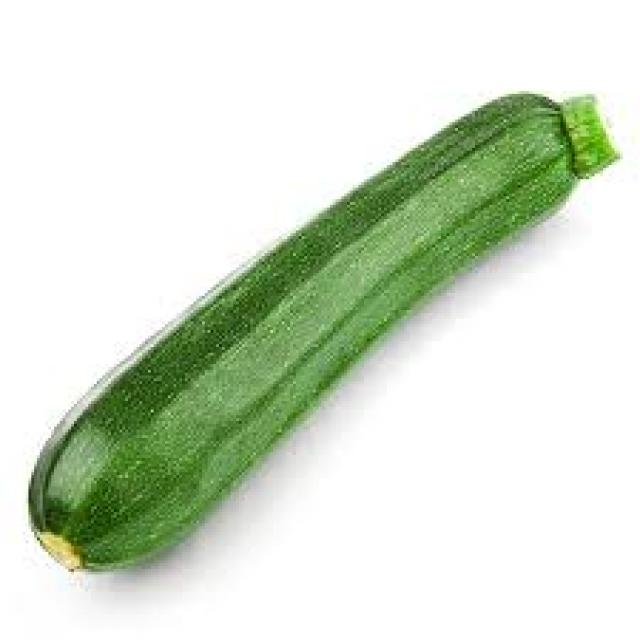zucchini: (0, 77, 629, 637)
